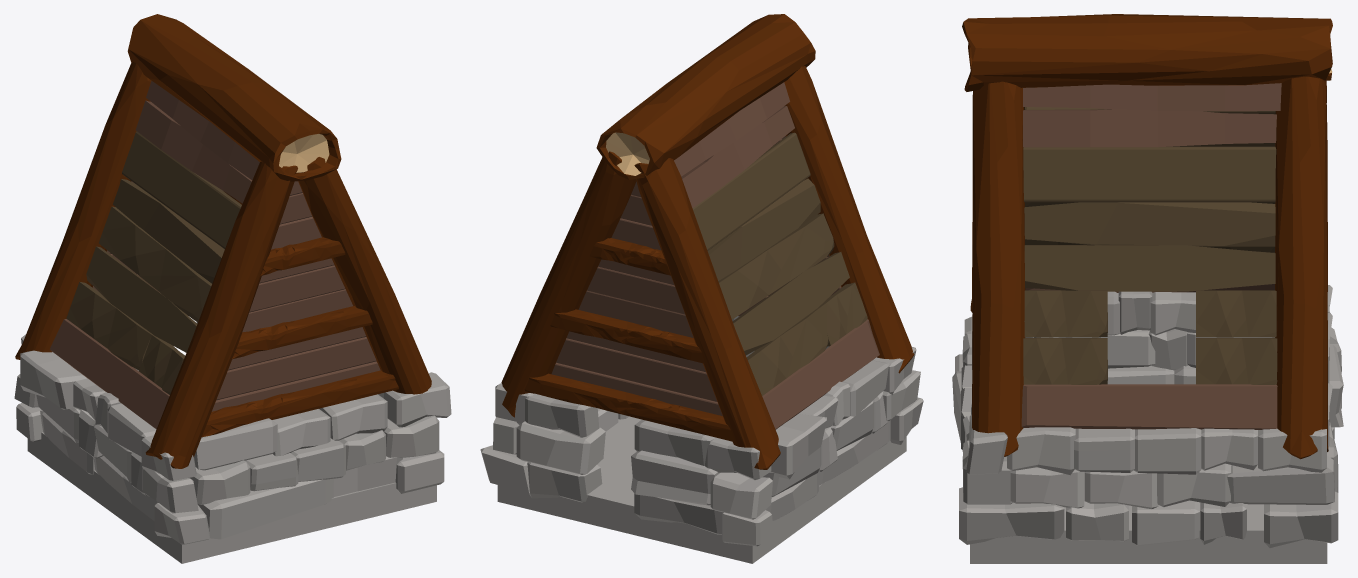
Rendered from House1.fbx.
3 views of the same model, side by side, from view 1: azimuth 30°, elevation 25°; view 2: azimuth 150°, elevation 25°; view 3: azimuth 270°, elevation 25° (orthographic). The views are drawn at different scales.
Visible parts, largest first — view 1: House1; view 2: House1; view 3: House1.
Boxes of the visible parts, x1,y1,x2,y2 form: House1: (14,14,451,563); House1: (480,14,923,563); House1: (952,14,1343,563).
Bounding box in the file's own units: 859 × 1131 × 853.
